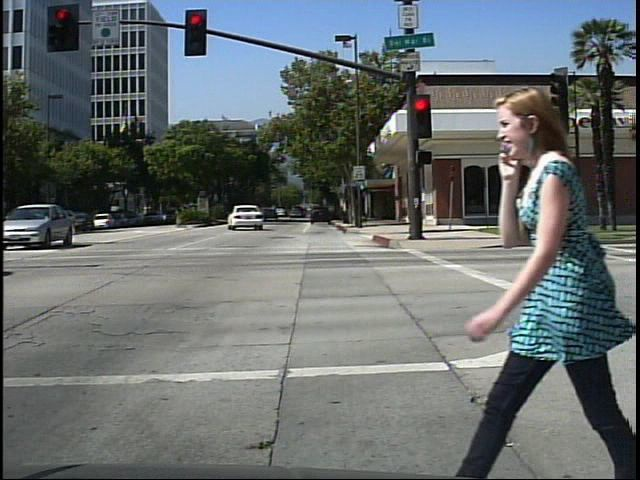person: (473, 74, 632, 480)
